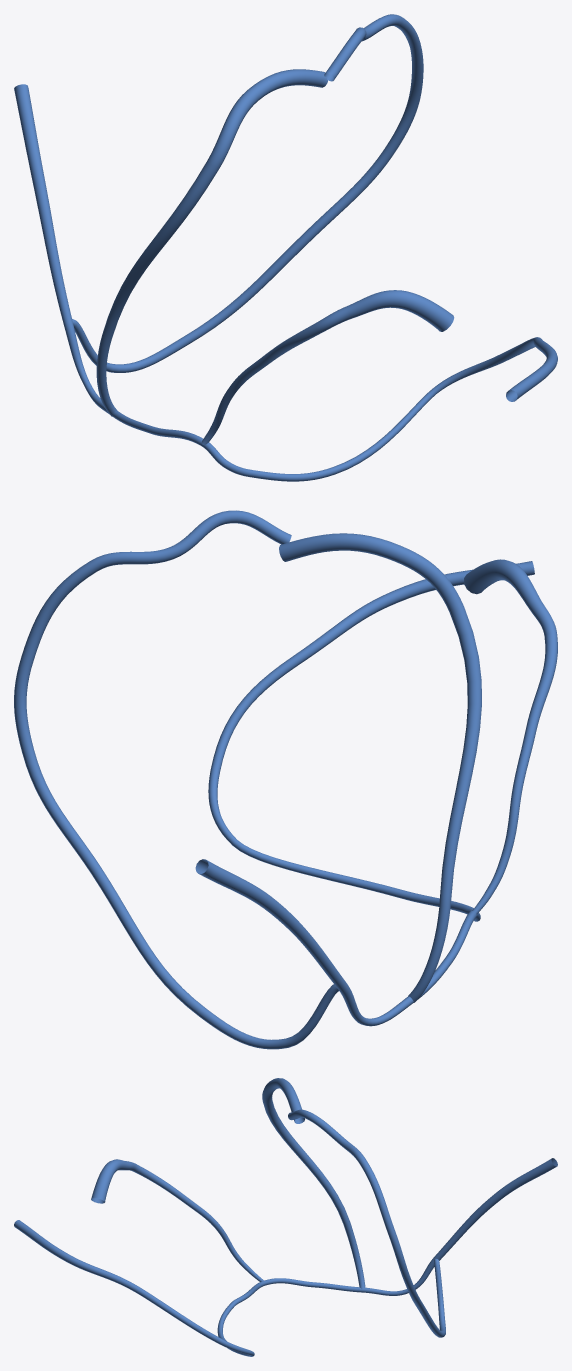
The picture shows the model from 3 angles, top to bottom: view 1: azimuth 30°, elevation 25°; view 2: azimuth 150°, elevation 25°; view 3: azimuth 270°, elevation 25°; orthographic projection. The views are drawn at different scales.
Parts seen in each view (by area): view 1: 右侧膝静脉; view 2: 右侧膝静脉; view 3: 右侧膝静脉.
Part boxes in pixels (bbox=[...]): 右侧膝静脉: bbox=[14, 14, 557, 481]; 右侧膝静脉: bbox=[14, 510, 557, 1049]; 右侧膝静脉: bbox=[14, 1078, 557, 1356].
Bounding box in the file's own units: 0.1247 × 0.1275 × 0.2426.
